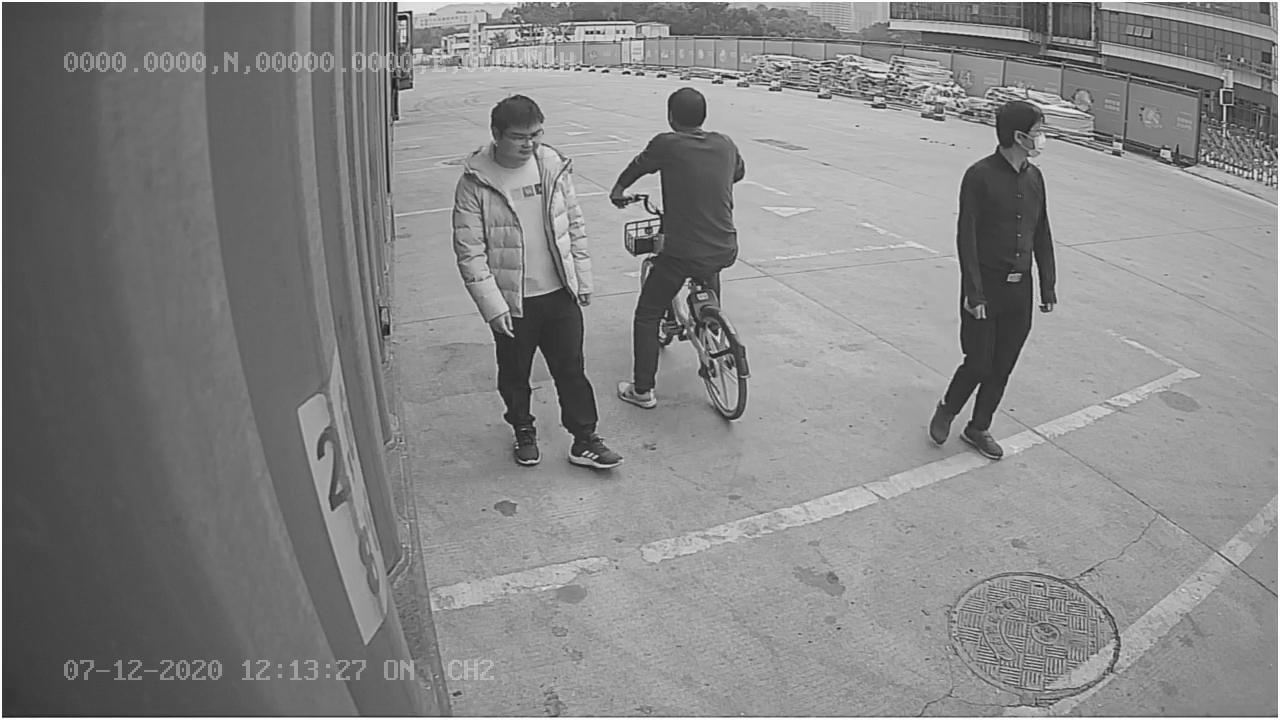person: (448, 89, 624, 472), (928, 92, 1062, 468)
